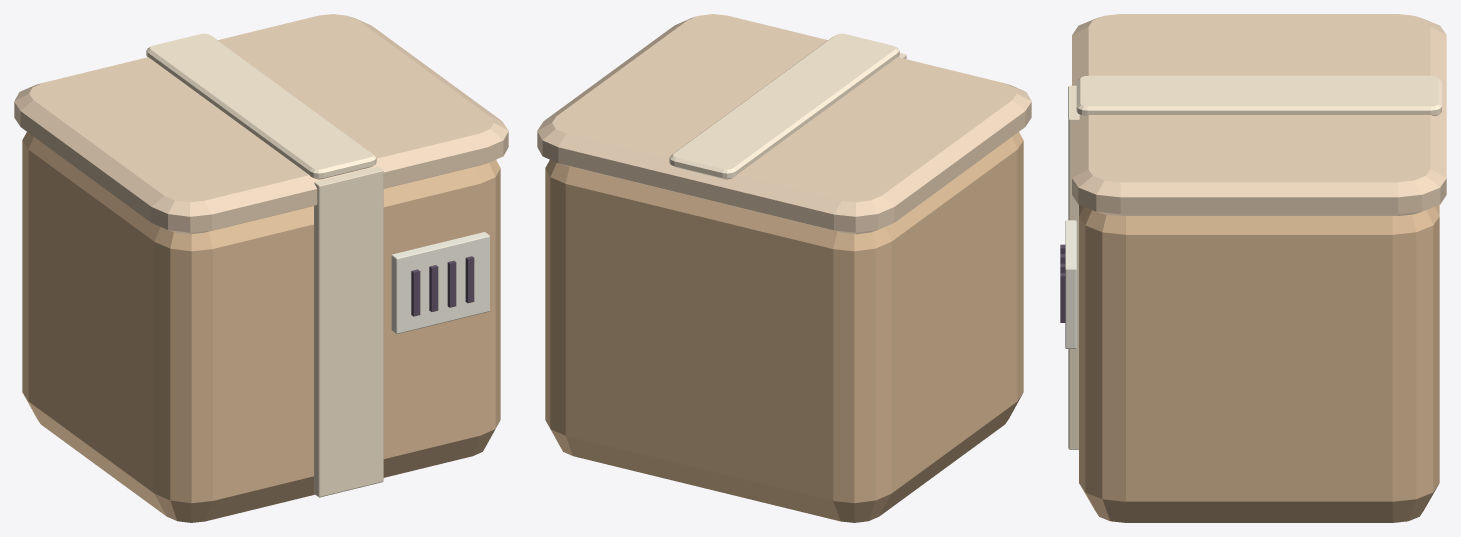
The model's file is package_medium.glb.
3 renders of one model, left to right at view 1: azimuth 30°, elevation 25°; view 2: azimuth 150°, elevation 25°; view 3: azimuth 270°, elevation 25°, orthographic. The views are drawn at different scales.
Visible parts, largest first — view 1: carton, lid, model, ribbon, label; view 2: carton, lid, ribbon; view 3: carton, lid, ribbon, model, label.
Part boxes in pixels (x1,y1,x2,y2): carton: [22, 132, 500, 522]; lid: [14, 14, 508, 234]; model: [314, 166, 474, 497]; ribbon: [146, 33, 376, 179]; label: [391, 232, 489, 333]; carton: [545, 132, 1023, 522]; lid: [537, 14, 1031, 234]; ribbon: [669, 33, 899, 179]; carton: [1079, 205, 1439, 522]; lid: [1072, 14, 1446, 215]; ribbon: [1076, 75, 1441, 116]; model: [1060, 85, 1079, 449]; label: [1065, 220, 1076, 348].
Size of the model in its own units: 0.5 by 0.45 by 0.45.
